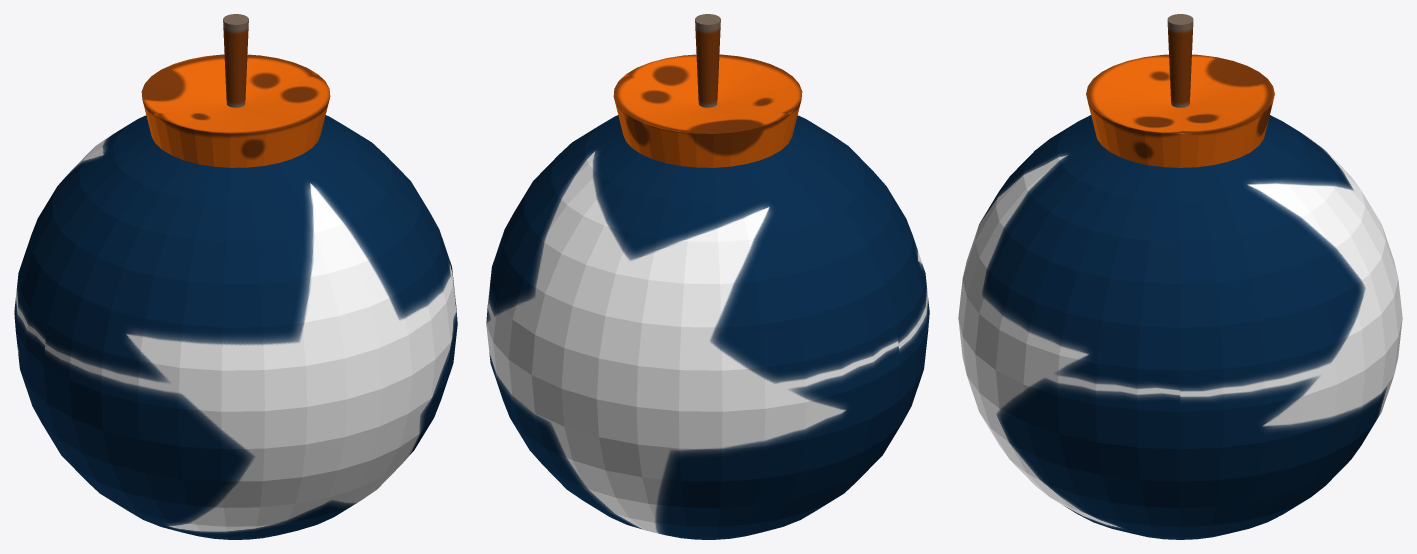
File: Bombs.fbx
3 views of the same model, side by side, from view 1: azimuth 30°, elevation 25°; view 2: azimuth 150°, elevation 25°; view 3: azimuth 270°, elevation 25° (orthographic).
Visible parts, largest first — view 1: Sphere; view 2: Sphere; view 3: Sphere.
Part boxes in pixels (x1,y1,x2,y2): Sphere: (14, 14, 457, 539); Sphere: (486, 14, 929, 539); Sphere: (958, 14, 1402, 539).
Size of the model in its own units: 2 by 2.48 by 2.
